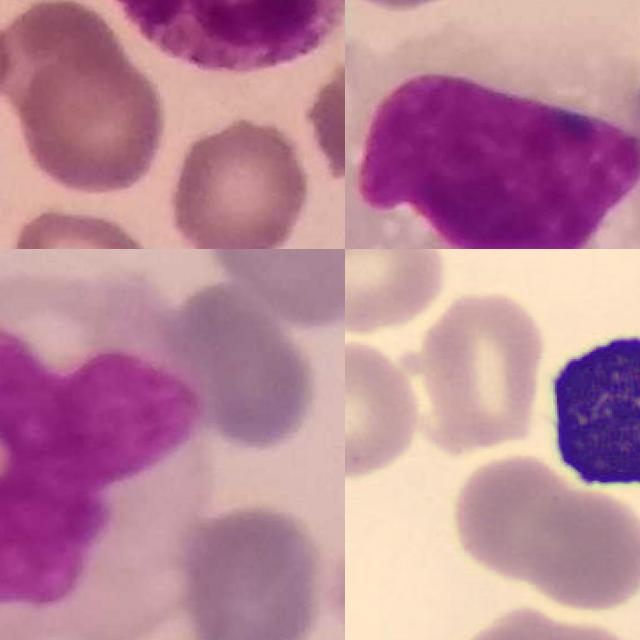Lymphocyte: (537, 316, 640, 500)
Monocyte: (0, 283, 215, 640), (345, 42, 640, 249)
Neutrophil: (108, 0, 345, 71)
RBC: (446, 447, 640, 611), (416, 285, 550, 452), (345, 334, 422, 485), (345, 249, 454, 337), (439, 604, 640, 640)
